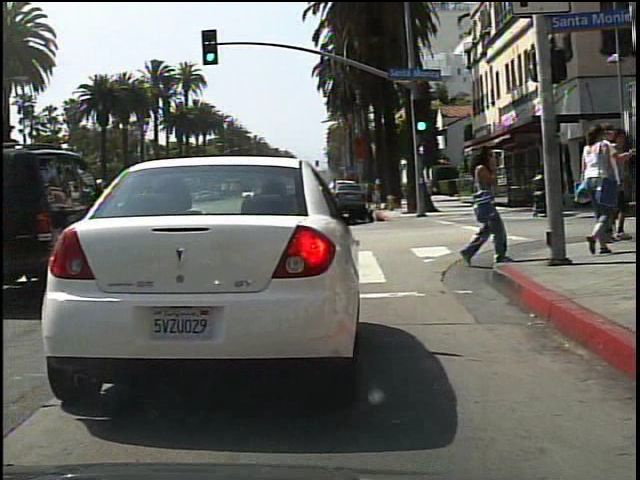person: (457, 141, 517, 270), (575, 121, 627, 258)
